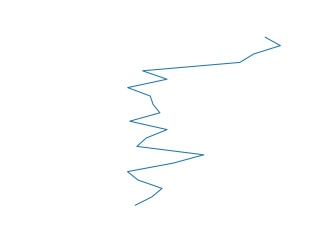crevasseRiverChannelBar: (124, 35, 284, 212)
